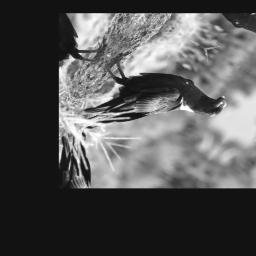Crow: (67, 36, 235, 171)
